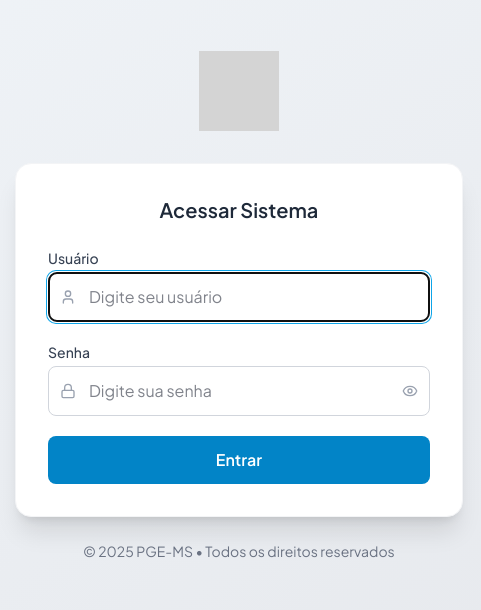
Test: LoginPage › deve exibir mensagem de erro quando login falha
Type "admin" into the field labelled "Usuário".
click(239, 297); type("admin")  # box x1=48 y1=272 x2=430 y2=322
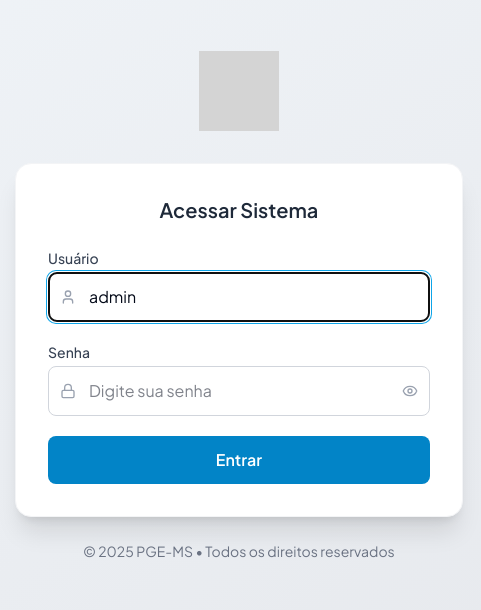
Type "errada" into the password field labelled "Senha".
click(239, 391); type("errada")  # box x1=48 y1=366 x2=430 y2=416
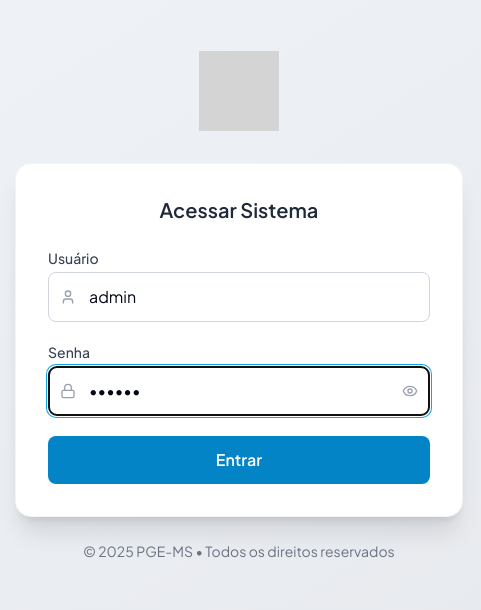
Click the button "Entrar".
click(239, 460)  # box x1=48 y1=436 x2=430 y2=484
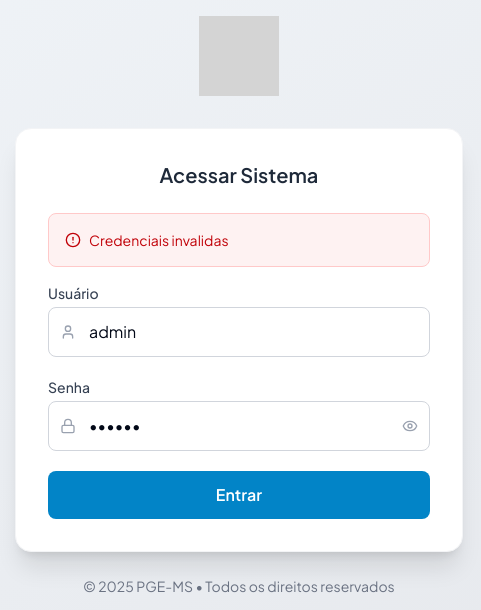
Expected: the text "Credenciais invalidas" is shown, x1=89 y1=230 x2=228 y2=250
